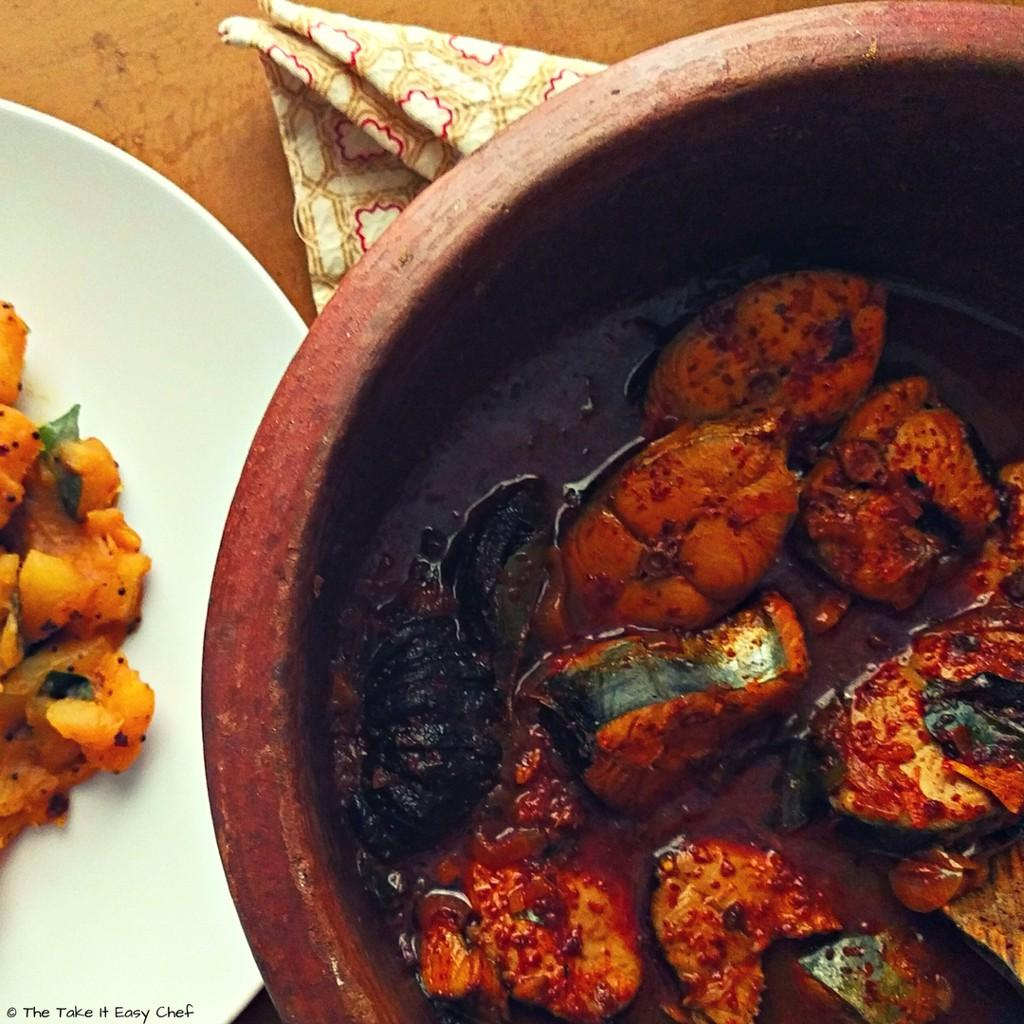FishCurry: (363, 267, 1024, 1024)
